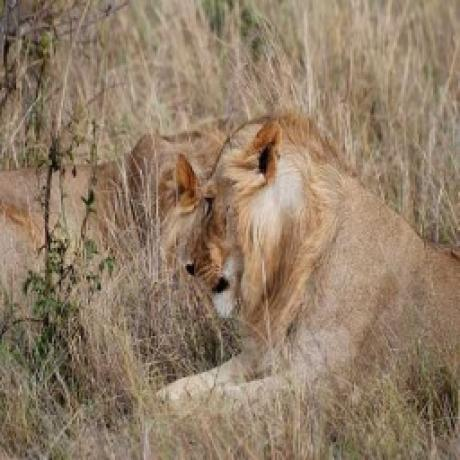Lion: (160, 102, 460, 404)
